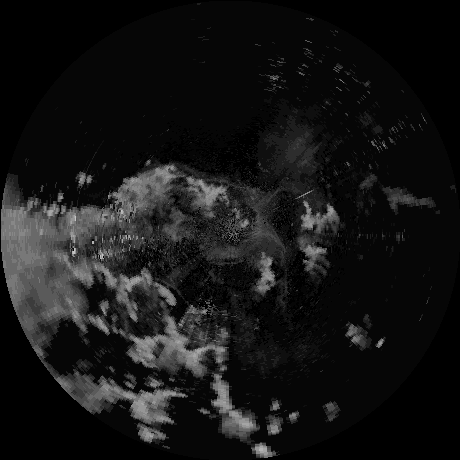frontgust: (277, 249, 291, 300), (202, 177, 249, 192), (155, 278, 184, 300)
